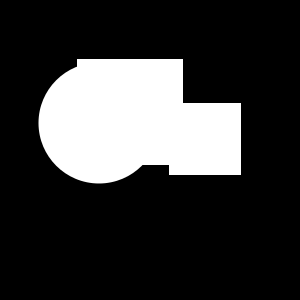circle: (77, 59, 183, 165), (169, 103, 241, 175)
rectangle: (39, 62, 160, 183)
